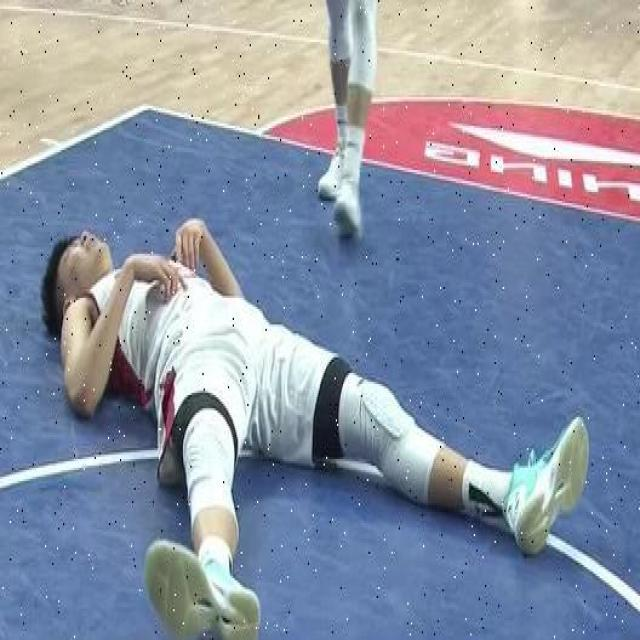fall: (41, 222, 584, 614)
